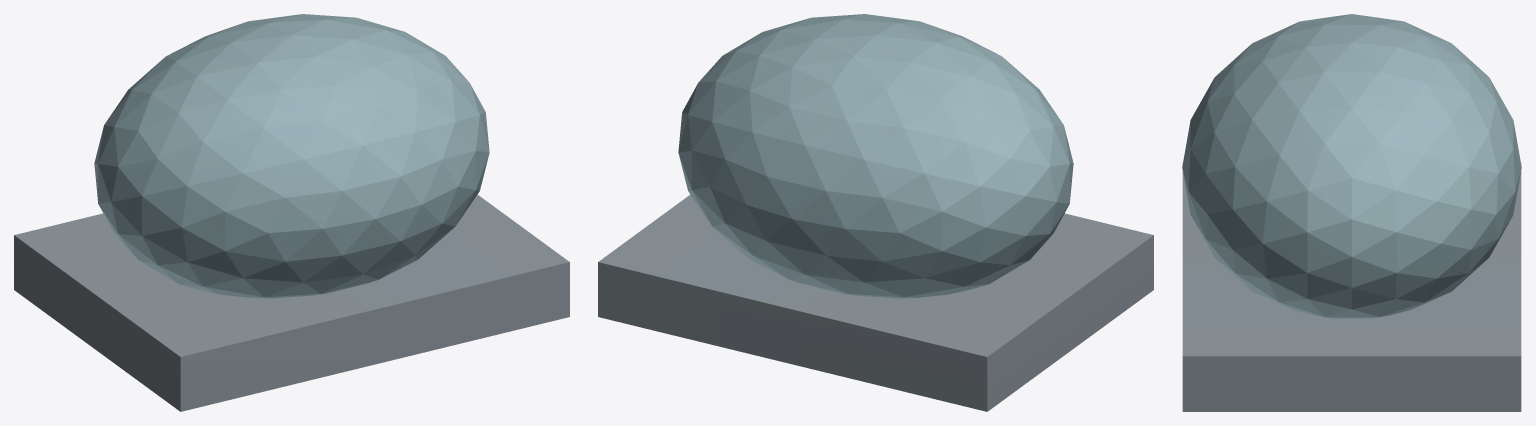
Rendered from greenhouse-05.glb.
The picture shows the model from 3 angles, left to right: view 1: azimuth 30°, elevation 25°; view 2: azimuth 150°, elevation 25°; view 3: azimuth 270°, elevation 25°; orthographic projection.
Parts seen in each view (by area): view 1: world; view 2: world; view 3: world.
Part boxes in pixels (box(x1,y1,x2,y2)): world: box(14, 14, 569, 411); world: box(598, 14, 1153, 411); world: box(1182, 14, 1521, 411).
Size of the model in its own units: 1.48 by 0.9779 by 1.1.
